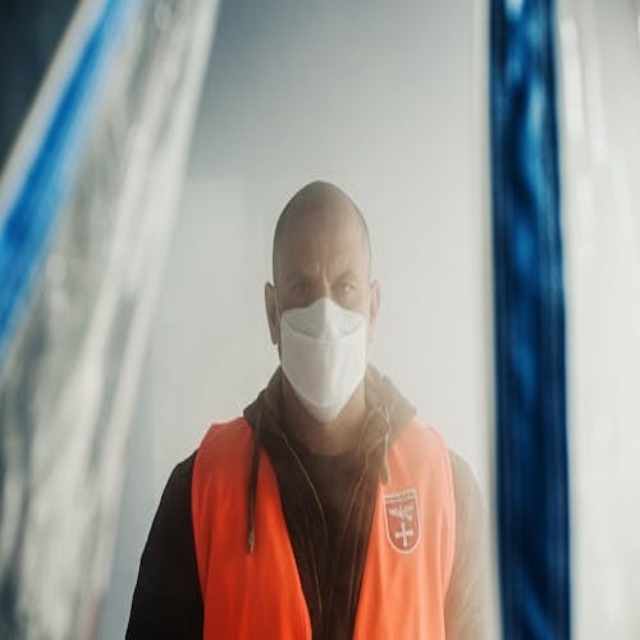Mascara: (278, 294, 370, 420)
Sin_gafas: (278, 254, 369, 311)
